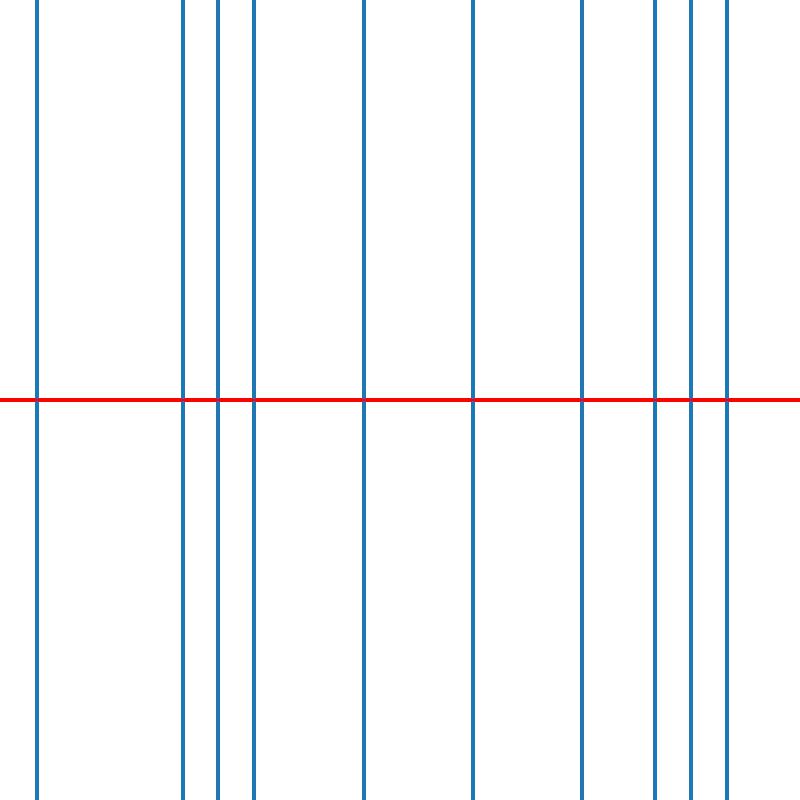root: (250, 396, 258, 404), (32, 396, 40, 404), (650, 396, 658, 404), (178, 396, 185, 404), (723, 396, 730, 404), (360, 396, 367, 404), (578, 396, 585, 404), (469, 396, 476, 404), (687, 396, 694, 404), (214, 396, 221, 404)
